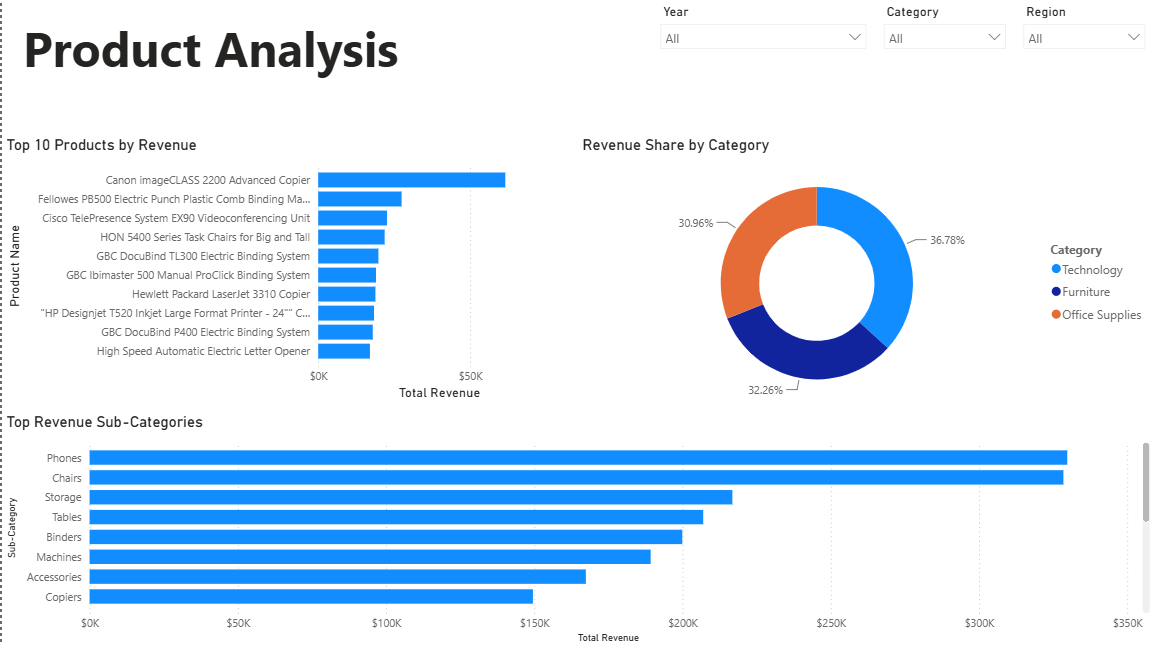

Layout of this report page (visuals, bound fields, positions):
{"tool":"powerbi","page":{"name":"Product Analysis","canvas":[1280,720],"ordinal":1},"visuals":[{"type":"slicer","fields":{"Values":["DimDate.Year"]},"box":[721.7,0,248.3,75],"z":0},{"type":"slicer","fields":{"Values":["DimProduct.Category"]},"box":[970,0,155,75],"z":1},{"type":"slicer","fields":{"Values":["FactSales.Region"]},"box":[1125,0,155,75],"z":2},{"type":"clusteredBarChart","title":"Top 10 Products by Revenue","fields":{"Category":["DimProduct.Product Name"],"Y":["KPI Measures.Total Revenue"]},"box":[0,151.7,640,298.3],"z":3},{"type":"barChart","title":"Top Revenue Sub-Categories","fields":{"Category":["DimProduct.Sub-Category"],"Y":["KPI Measures.Total Revenue"]},"box":[0,460,1280,260],"z":5},{"type":"donutChart","title":"Revenue Share by Category","fields":{"Y":["KPI Measures.Total Revenue"],"Category":["DimProduct.Category"]},"box":[640,151.7,640,308.3],"z":6},{"type":"textbox","box":[17.5,14,603.5,121.1],"z":7}]}

Visuals, with their boxes in screenshot pixels (x1, y1, x2, y2), scaled from the page's 1280x720 canvas onto the 1152x646 screenshot:
slicer - DimDate.Year: <bbox>650, 0, 873, 67</bbox>
slicer - DimProduct.Category: <bbox>873, 0, 1012, 67</bbox>
slicer - FactSales.Region: <bbox>1012, 0, 1151, 67</bbox>
"Top 10 Products by Revenue" clusteredBarChart: <bbox>0, 136, 576, 404</bbox>
"Top Revenue Sub-Categories" barChart: <bbox>0, 413, 1151, 645</bbox>
"Revenue Share by Category" donutChart: <bbox>576, 136, 1151, 413</bbox>
textbox: <bbox>16, 13, 559, 121</bbox>
